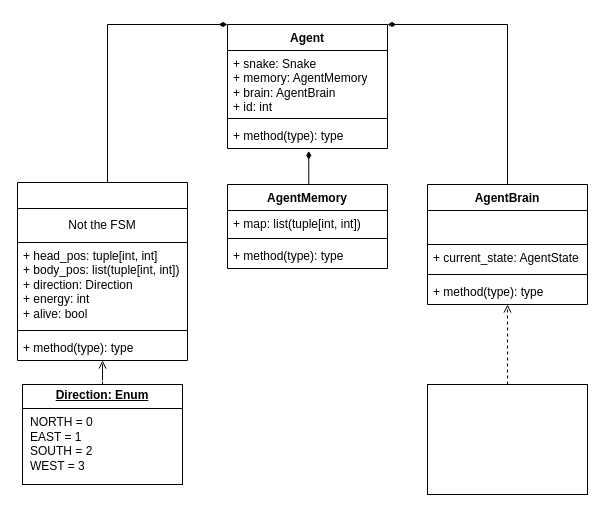
Some shapes in this 605 by 512 pixel diagram are drawn without their labels. Each missing label, with the box of its shape:
AgentState: Enum IDLE = 0 SURVIVE = 1 EXPLORE = 2 DODGE = 3 ATTACK = 4: (426, 384, 588, 494)
Logic, FSM...: (426, 210, 588, 244)
Snake: (16, 182, 188, 360)
